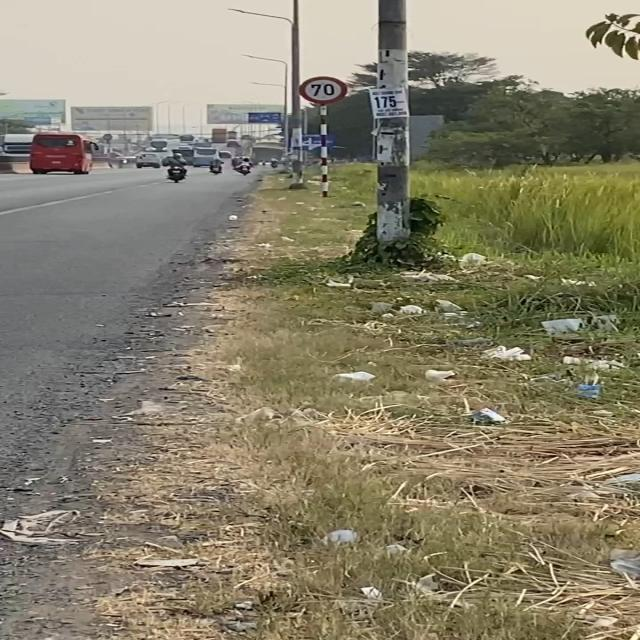127-toc-do-toi-da-70: (298, 75, 348, 105)
